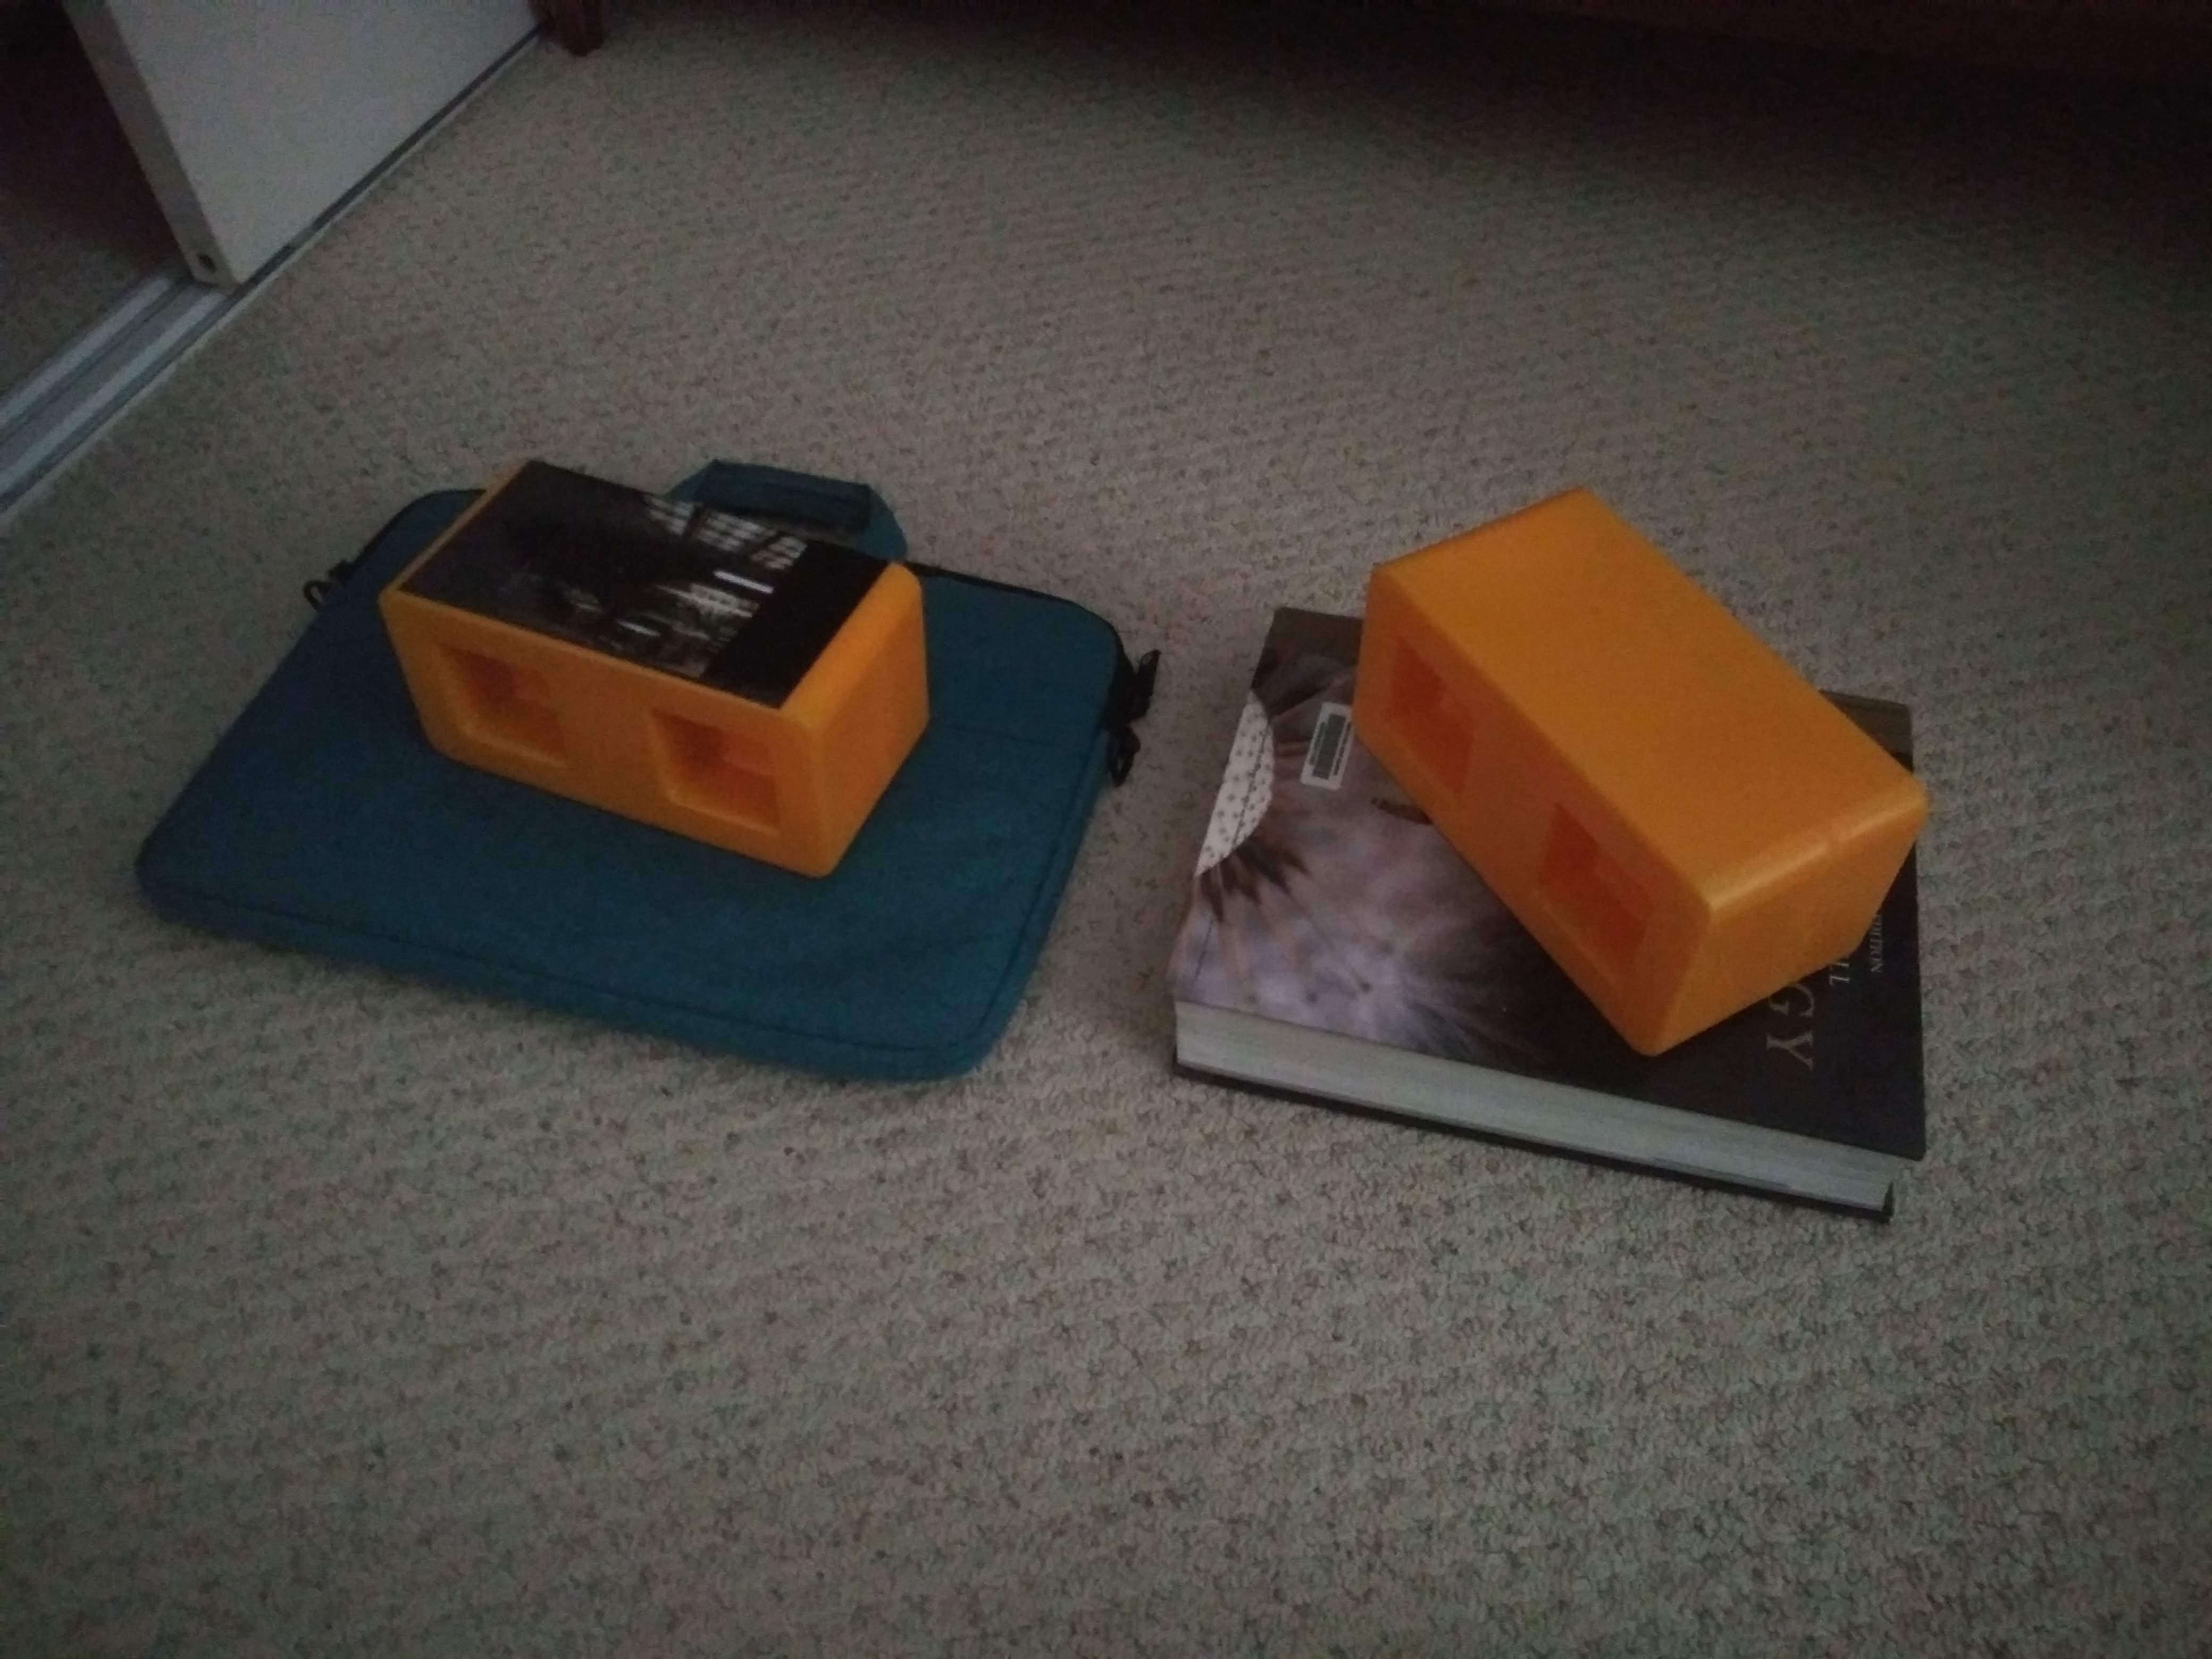skystone: (387, 458, 930, 854)
stone: (1352, 505, 1902, 1023)
